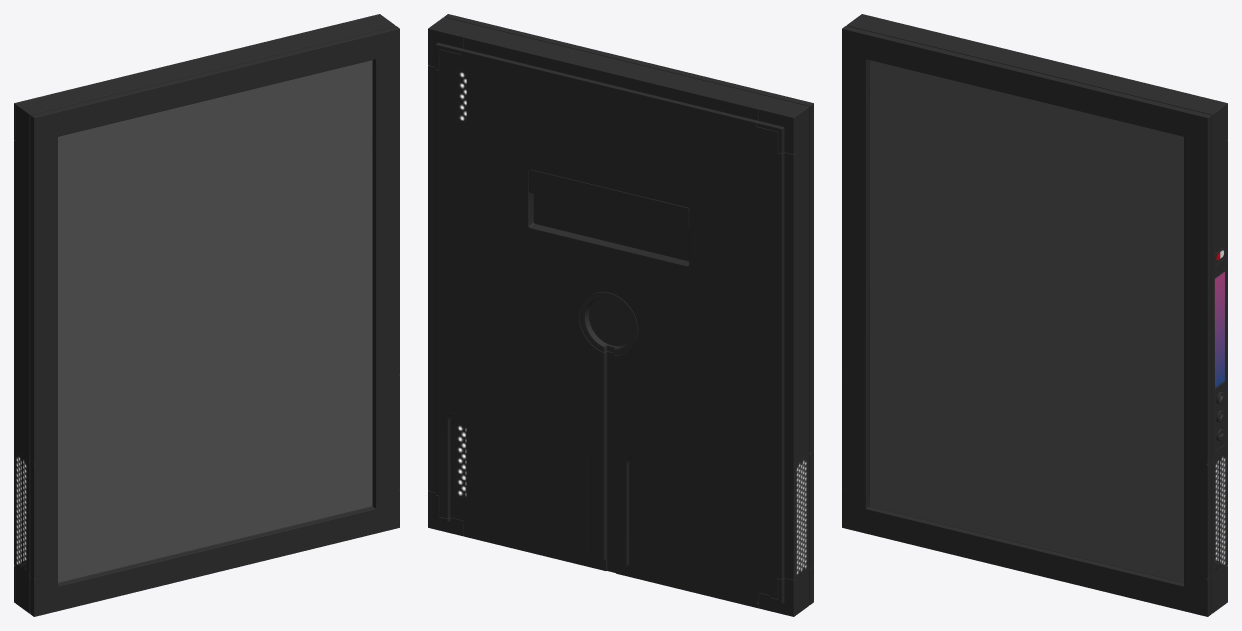
File: speaker.glb
3 renders of one model, left to right at view 1: azimuth 30°, elevation 25°; view 2: azimuth 150°, elevation 25°; view 3: azimuth 330°, elevation 25°, orthographic.
Visible parts, largest first — view 1: screen, frame; view 2: frame; view 3: screen, frame.
Boxes of the visible parts, x1,y1,x2,y2 form: screen: (58, 60, 372, 582); frame: (14, 14, 399, 616); frame: (428, 14, 813, 616); screen: (869, 60, 1183, 582); frame: (842, 14, 1227, 616).
Bounding box in the file's own units: 0.4929 × 0.64 × 0.0519.
2 materials, 1 textured.
